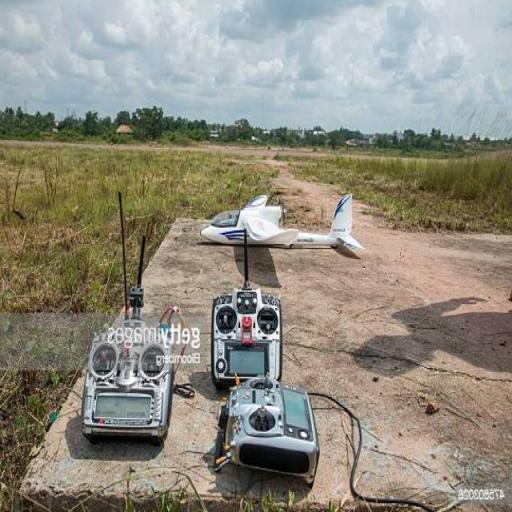uav: (180, 175, 372, 258)
